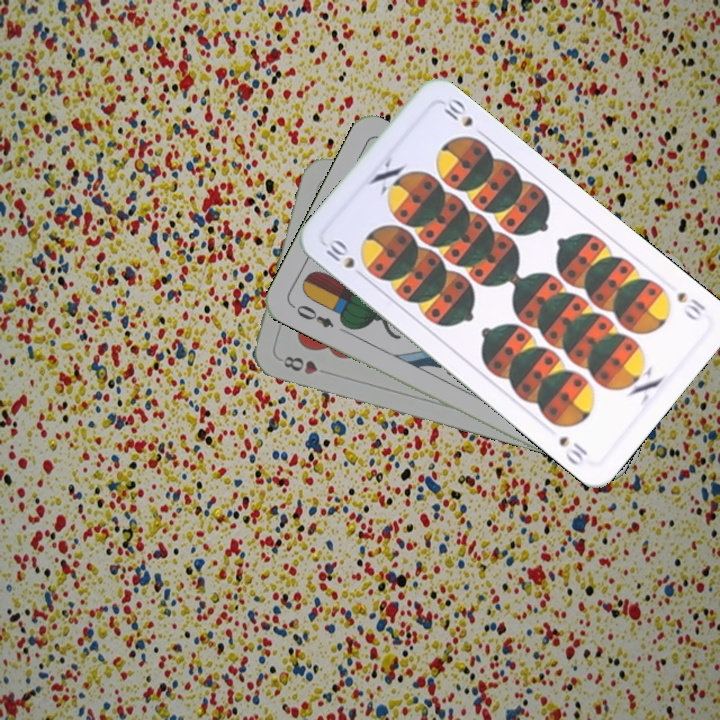EO: (287, 301, 337, 331)
H8: (279, 351, 320, 377)
S10: (320, 234, 358, 272), (672, 287, 709, 323)
